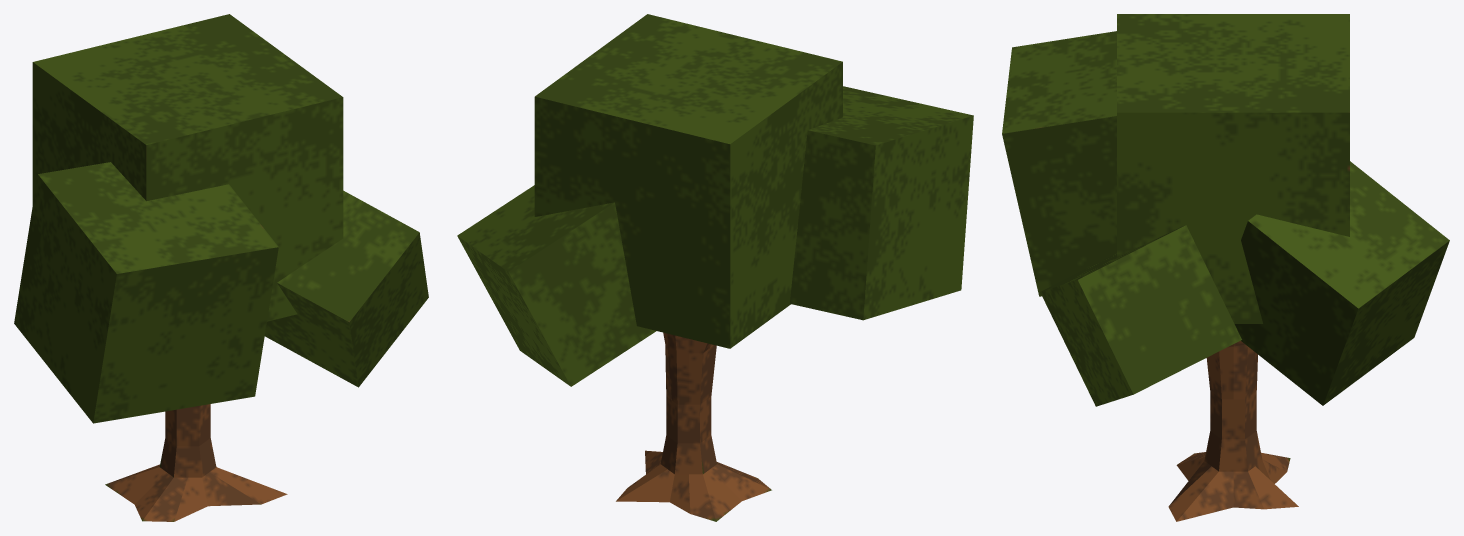
Rendered from tree1.fbx.
3 renders of one model, left to right at view 1: azimuth 30°, elevation 25°; view 2: azimuth 150°, elevation 25°; view 3: azimuth 270°, elevation 25°, orthographic. The views are drawn at different scales.
Visible parts, largest first — view 1: Cylinder; view 2: Cylinder; view 3: Cylinder.
Boxes of the visible parts, x1,y1,x2,y2 form: Cylinder: (14,14,428,521); Cylinder: (457,14,973,521); Cylinder: (1002,14,1449,521).
Size of the model in its own units: 383 by 400 by 384.
Materials: 1 (1 with a texture image).
